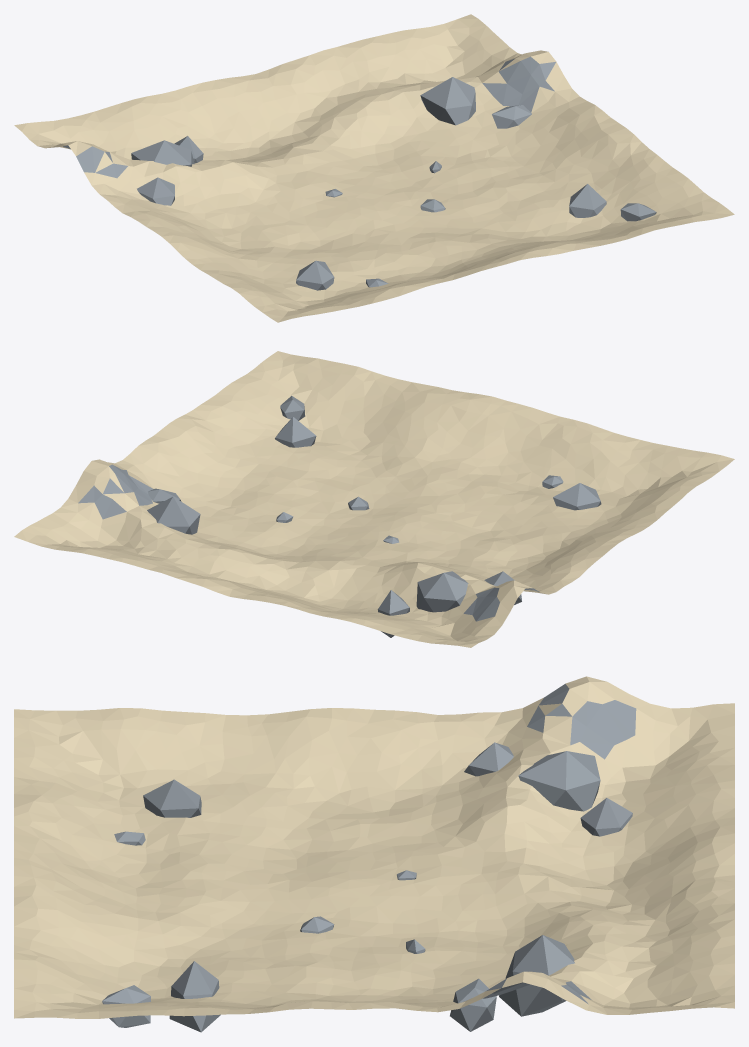
The model's file is SM_SeabedTank.fbx.
3 views of the same model, one above another, from view 1: azimuth 30°, elevation 25°; view 2: azimuth 150°, elevation 25°; view 3: azimuth 270°, elevation 25° (orthographic). The views are drawn at different scales.
Visible parts, largest first — view 1: SM_SeabedTank; view 2: SM_SeabedTank; view 3: SM_SeabedTank.
Boxes of the visible parts, box(x1,y1,x2,y2) form: SM_SeabedTank: box(14, 14, 734, 322); SM_SeabedTank: box(14, 351, 734, 647); SM_SeabedTank: box(14, 676, 734, 1032).
Size of the model in its own units: 18000 by 2901 by 18000.
